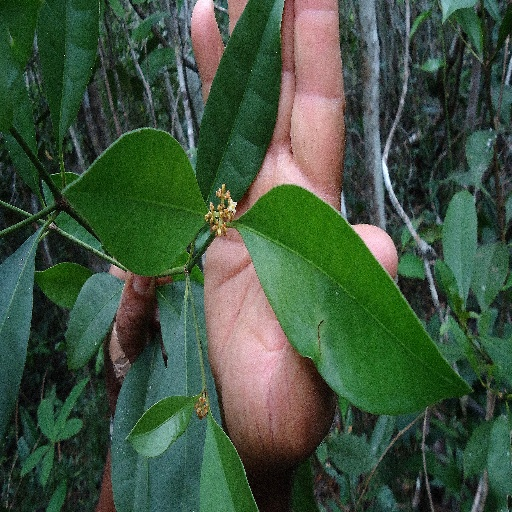hand: (187, 0, 396, 476), (113, 267, 173, 365)
